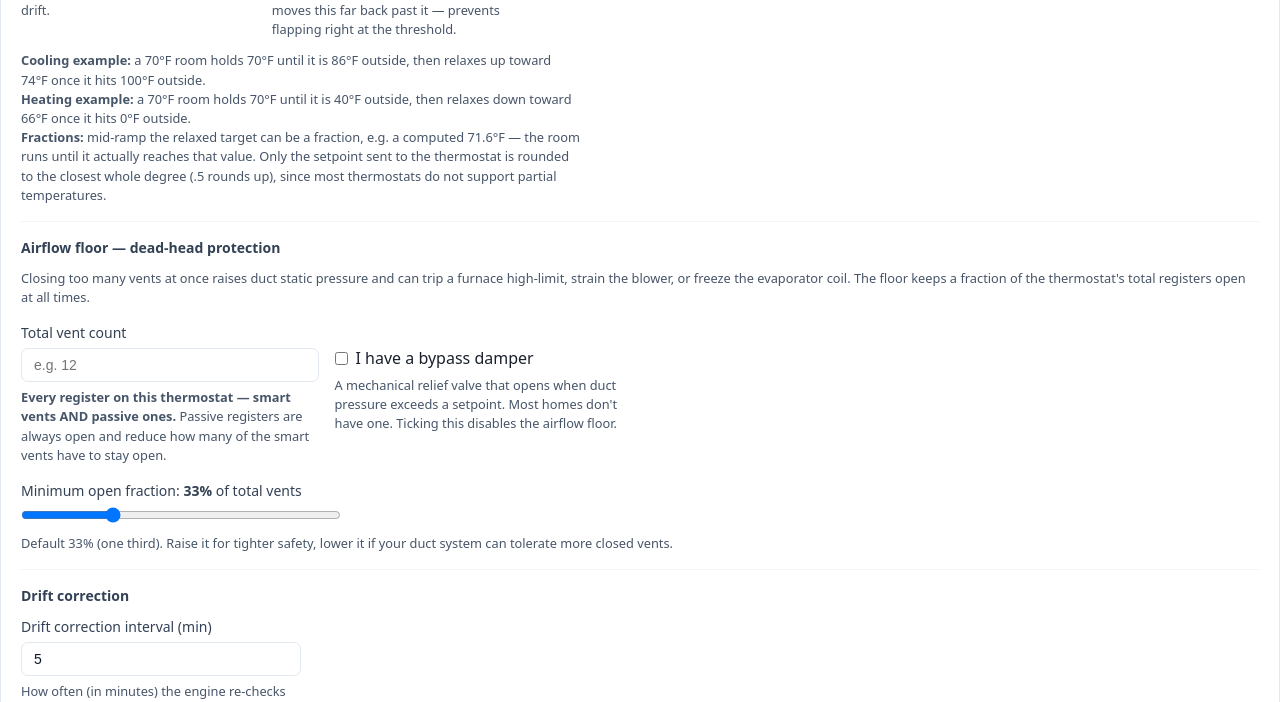
Test case: Thermostats Page › disables the airflow fraction slider when the bypass-damper checkbox is ticked (Issue #213)
(page scrolled)
Expected: the number field labelled "Total vent count" is shown, [21,348,318,382]
Expected: the slider with id "thermo-climate" is enabled, [21,507,341,523]
Click the checkbox with id "thermo-climate" at [341, 358], box [334,352,348,365]
(page scrolled)
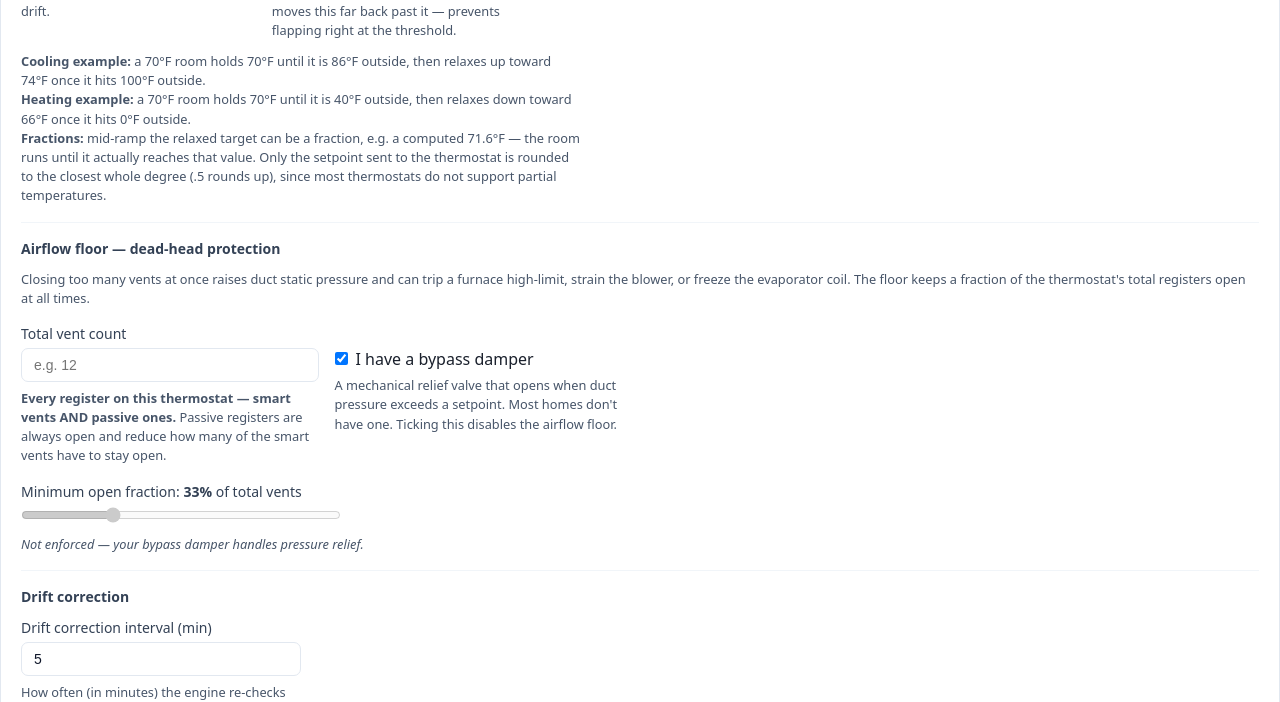
Expected: the slider with id "thermo-climate" is disabled, [21,507,341,523]
Expected: the text "Not enforced — your bypass damper handles pressure relief." is shown, [21,535,364,553]
